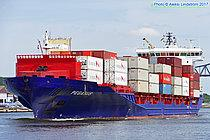Ship: (5, 30, 206, 124)
